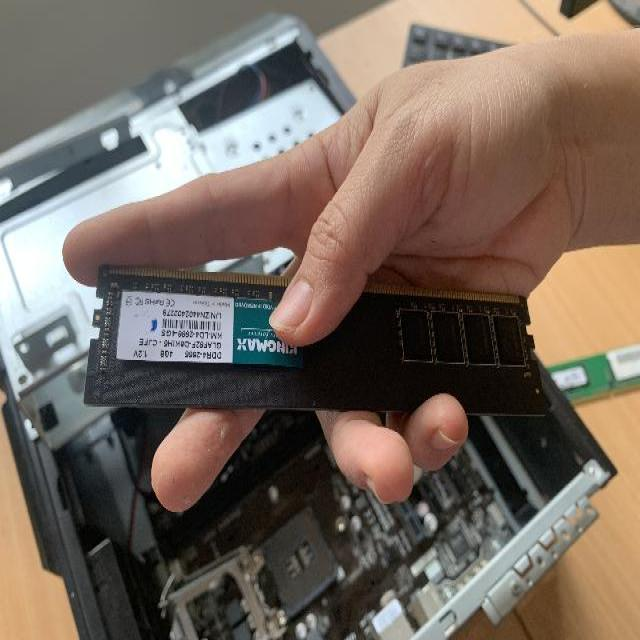RAM: (80, 255, 547, 417), (548, 325, 640, 411)
